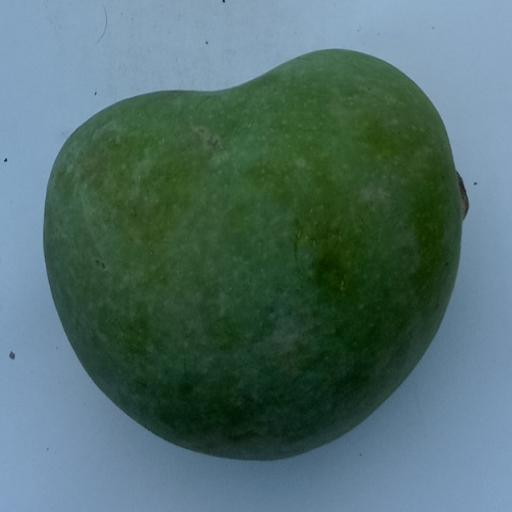mango-unripe: (32, 45, 479, 484)
